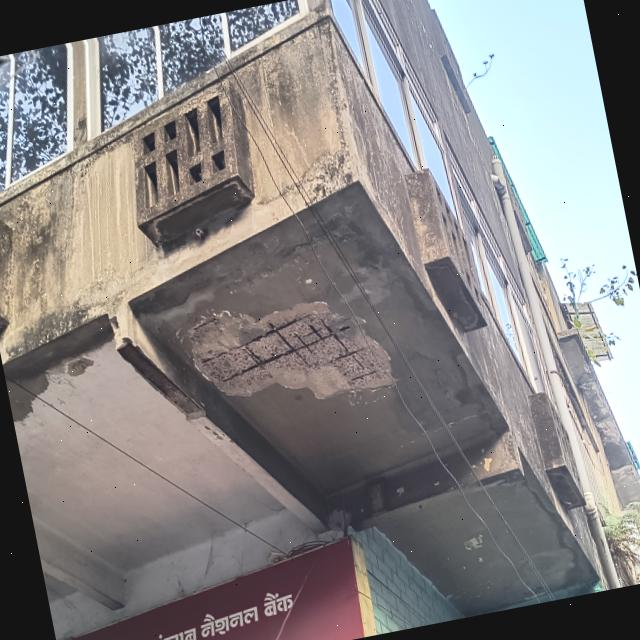Spalling: (190, 302, 391, 399)
